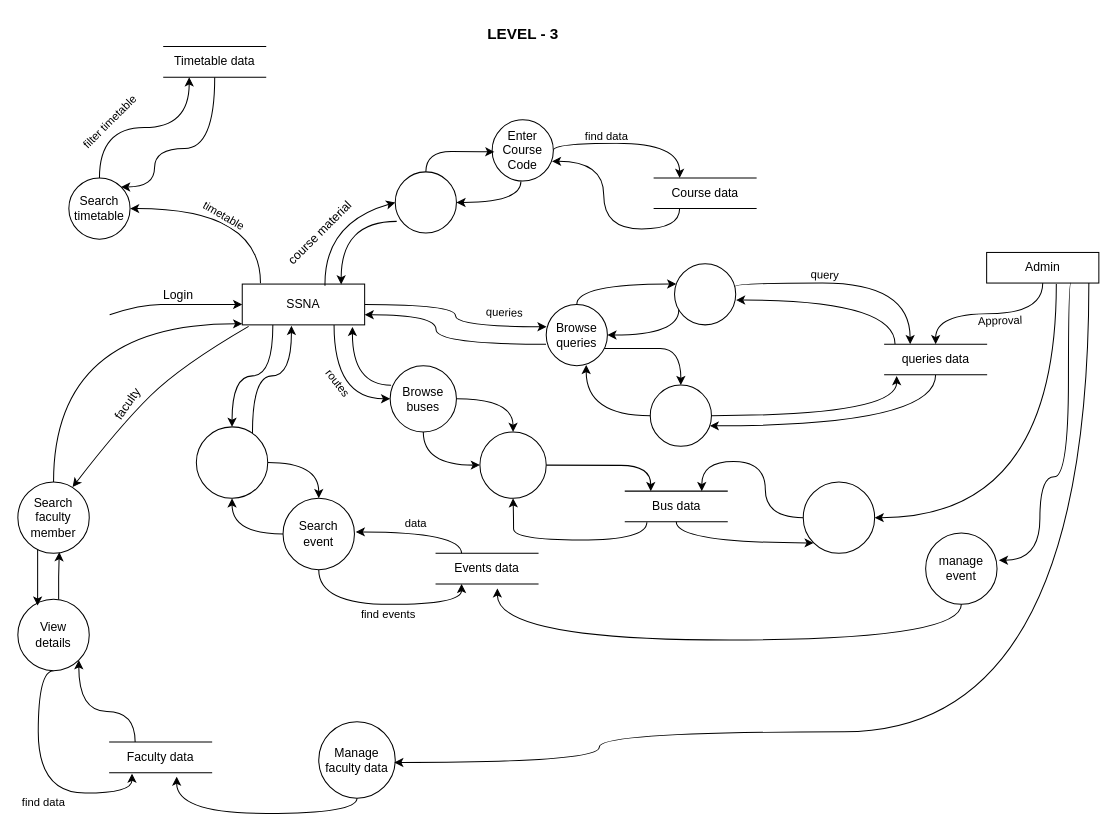
Some shapes in this 1117 by 831 pixel diagram are drawn without their labels. Each missing label, with the centre of its shape:
Answer Query: (x=680, y=415)
Browse events: (x=231, y=462)
manage buses: (x=838, y=517)
Search Bus route: (x=512, y=464)
Search course: (x=425, y=202)
View Query Answer: (x=705, y=294)
